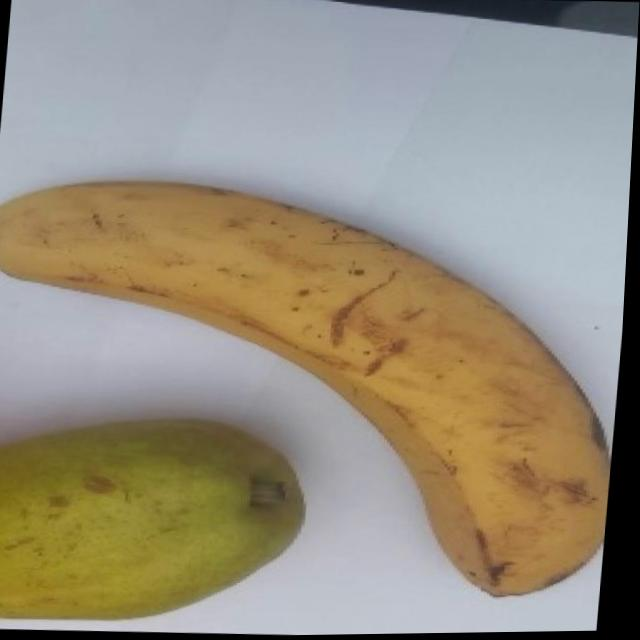Banana: (0, 171, 633, 610)
